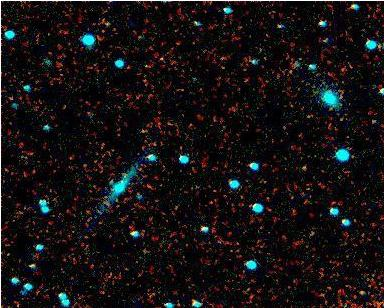star: (290, 154, 320, 184)
